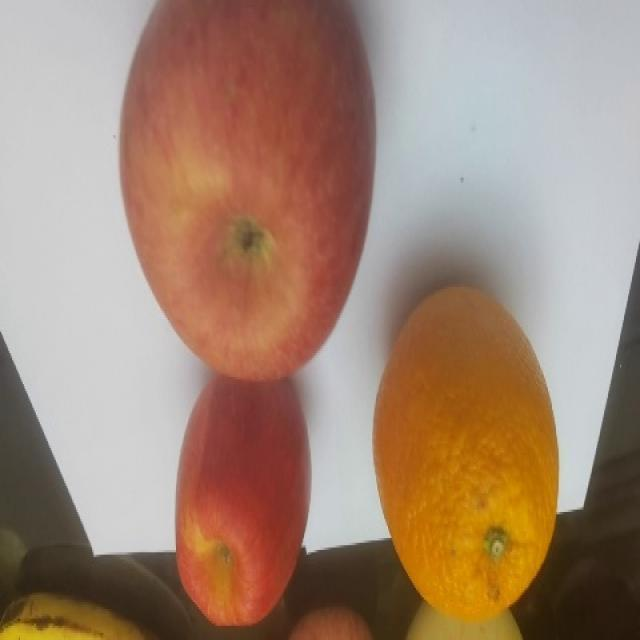Apple: (118, 0, 377, 382), (174, 374, 312, 627)
Orange: (371, 284, 559, 621)
